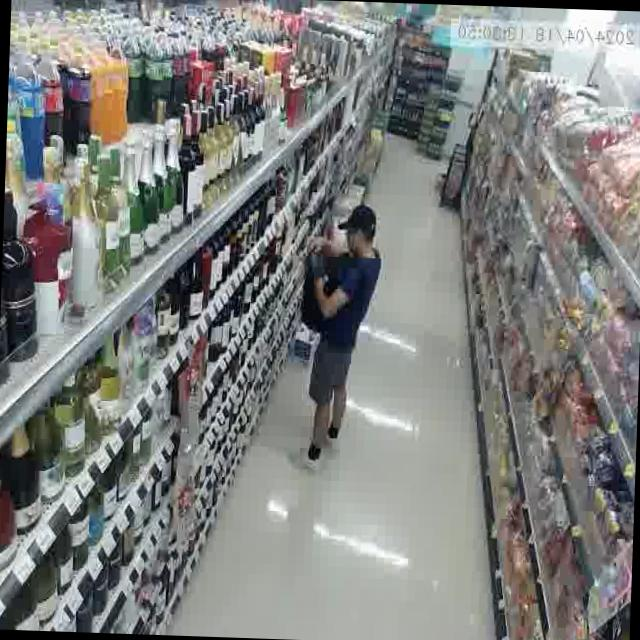shoplifting: (284, 189, 391, 483)
